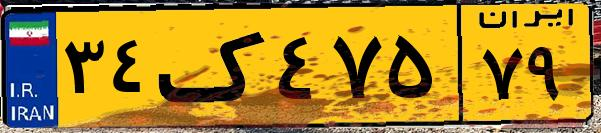3: (57, 26, 110, 100)
4: (270, 28, 330, 110), (110, 28, 158, 98)
5: (385, 28, 445, 110)
7: (330, 28, 385, 110), (475, 38, 525, 113)
9: (525, 38, 570, 115)
ک: (158, 12, 270, 120)
